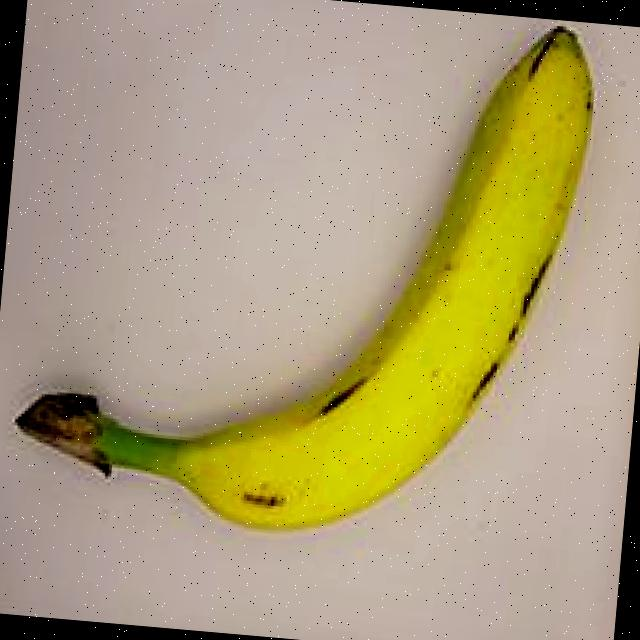Ripe: (11, 0, 619, 569)
